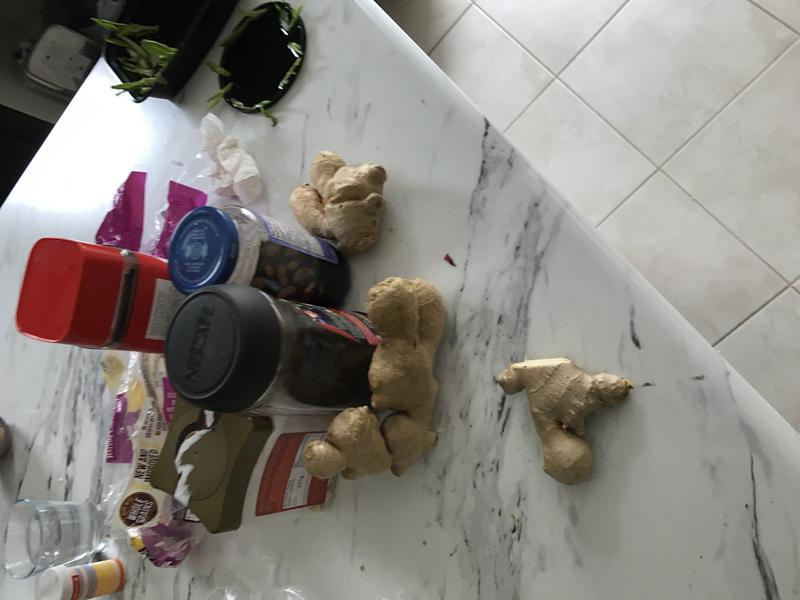ginger: (297, 273, 453, 492), (491, 349, 638, 499), (286, 141, 399, 263)
